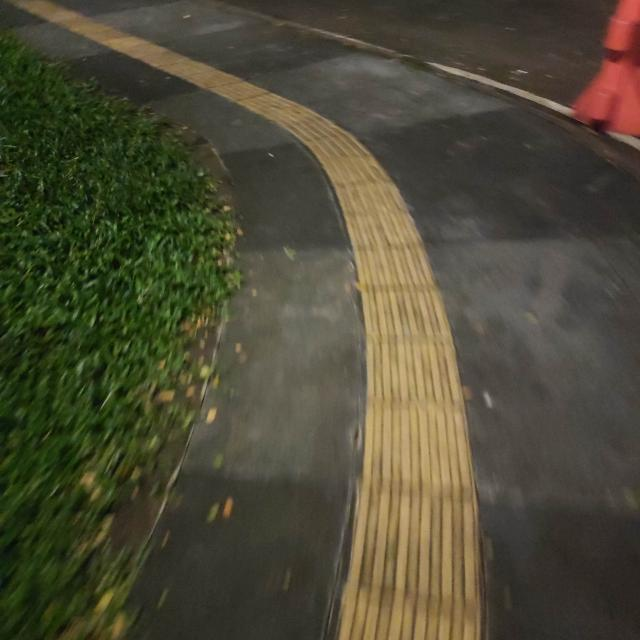lurus: (304, 157, 494, 640)
